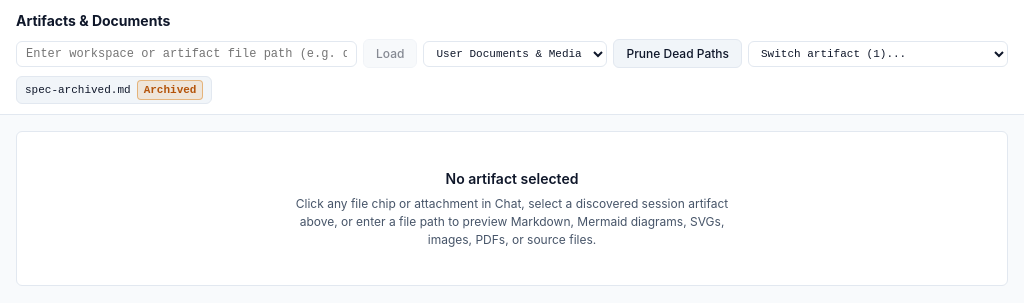
Test case: Wave A UI — Records 10, 4 & 29 › Record 29 — Artifact Pruning & Archived Badge › renders artifact-archived-badge for archived session artifacts and prunes dead paths via prune-artifacts-btn
The image size is (1024, 303).
Expected: the text with test id "artifact-archived-badge" reads "Archived", [144,84,196,96]
Click the button with test id "prune-artifacts-btn" at (678, 54), box [614,39,742,68]
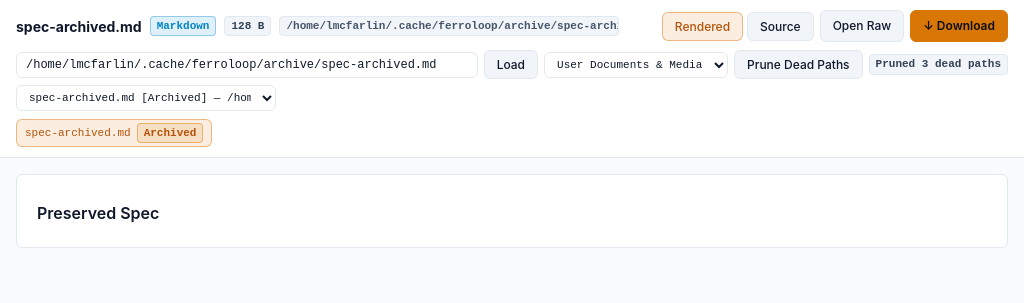
Now the message with test id "prune-artifacts-status" reads "Pruned 3 dead paths", box [876,58,1001,70]
